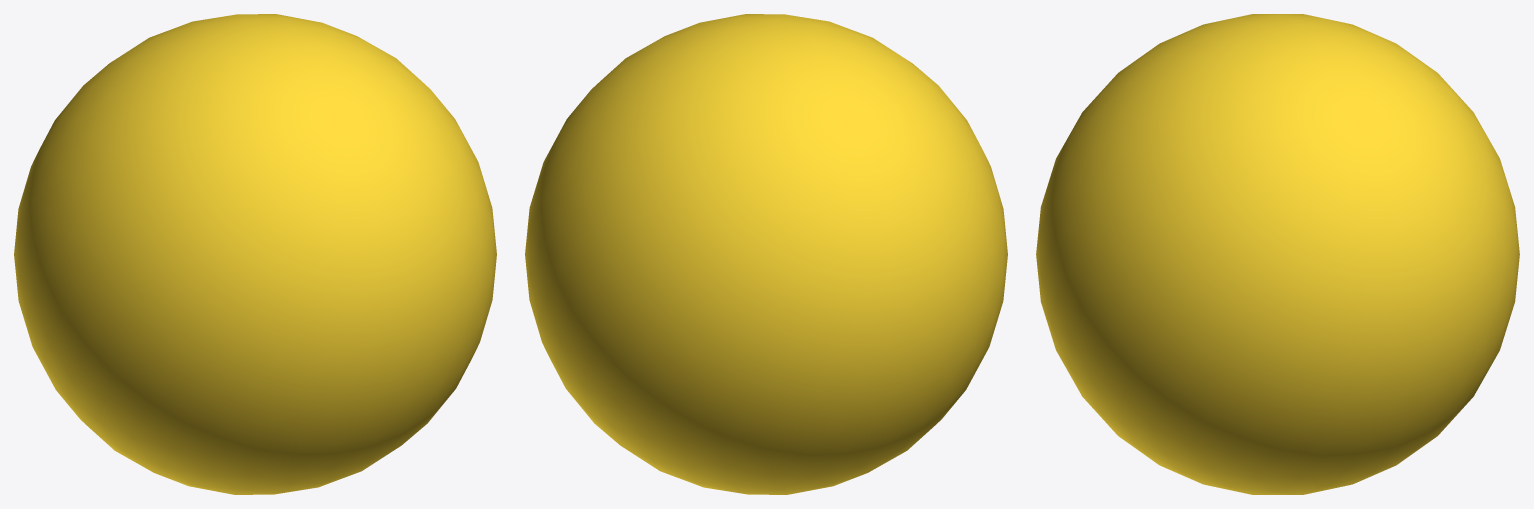
Rendered from fzzzwz.gltf.
3 views of the same model, side by side, from view 1: azimuth 30°, elevation 25°; view 2: azimuth 150°, elevation 25°; view 3: azimuth 270°, elevation 25° (orthographic).
Visible parts, largest first — view 1: GeoSphere002; view 2: GeoSphere002; view 3: GeoSphere002.
Boxes of the visible parts, <box> form: GeoSphere002: <box>14,14,496,494</box>; GeoSphere002: <box>525,14,1007,494</box>; GeoSphere002: <box>1036,14,1519,494</box>.
Bounding box in the file's own units: 1.4 × 1.41 × 1.41.
Materials: 1 (1 with a texture image).
